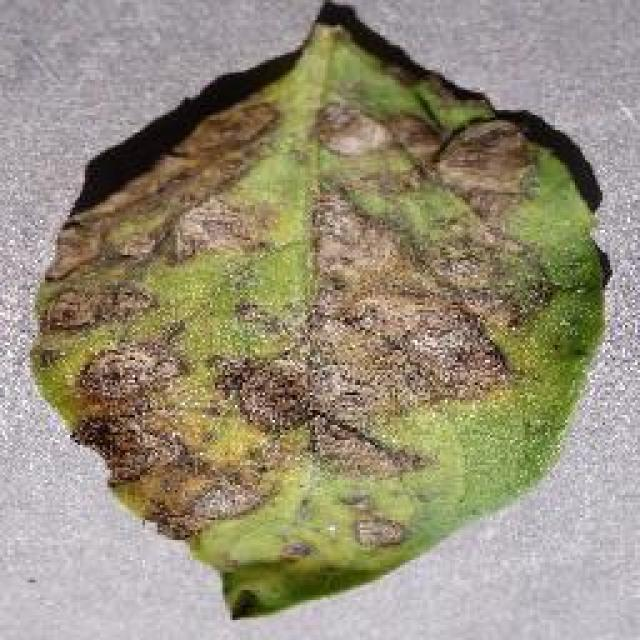Potato___Early_blight: (31, 23, 610, 626)
